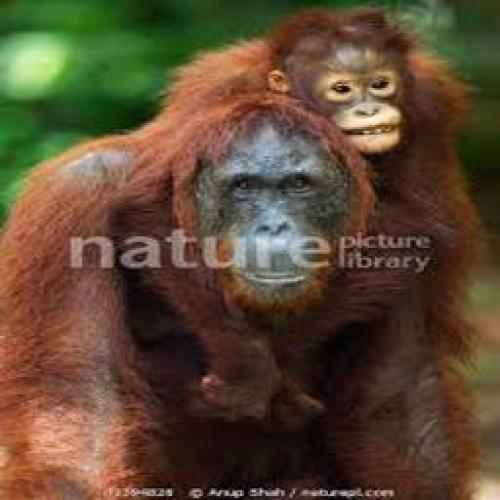orangutan-endangered: (0, 95, 480, 489), (164, 14, 467, 217)
